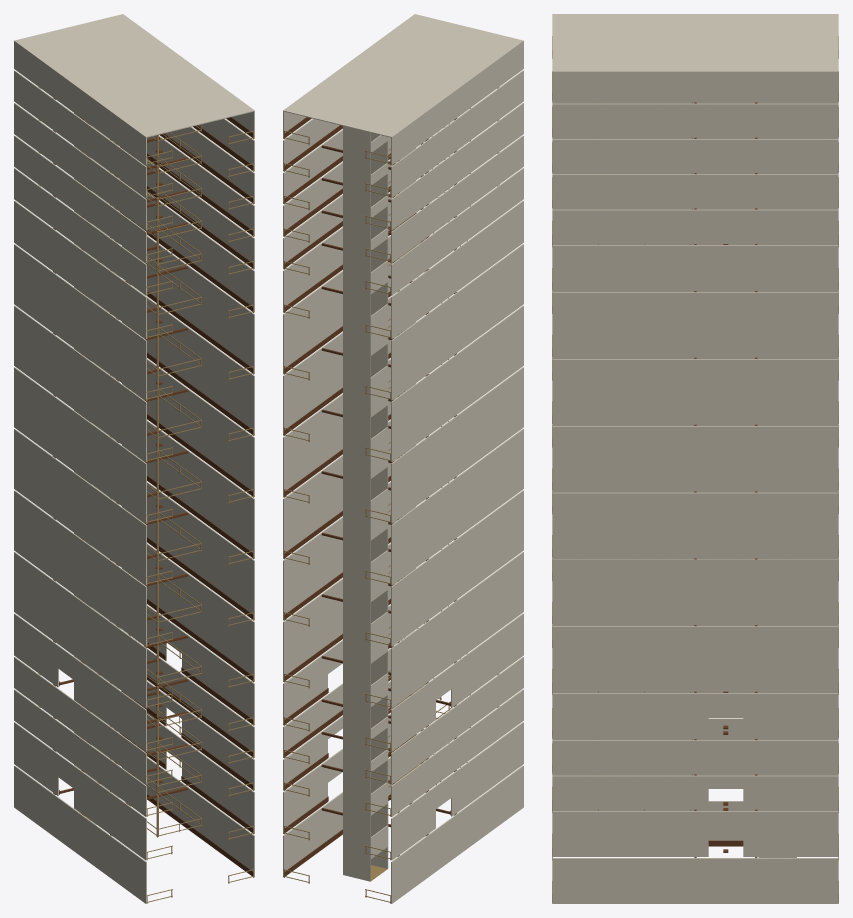
File: AST-CIR-005_aft_hydration_family_d05.glb
3 views of the same model, side by side, from view 1: azimuth 30°, elevation 25°; view 2: azimuth 150°, elevation 25°; view 3: azimuth 270°, elevation 25° (orthographic). The views are drawn at different scales.
Parts seen in each view (by area): view 1: CORE_BATCH_ivory_enamel, CORE_BATCH_champagne_metal, CORE_BATCH_warm_walnut, CORE_OuterWall_01_-1_Solar_Aft, CORE_OuterWall_04_-1_hydration_Aft, CORE_OuterWall_04_1_family_waiting_Aft, CORE_OuterWall_01_1_Inspection_Aft, CORE_OuterWall_02_1_Uniforms_Aft, CORE_OuterWall_04_-1_hydration_Fore, CORE_OuterWall_01_-1_Solar_Fore, CORE_OuterWall_04_1_family_waiting_Fore, CORE_OuterWall_01_1_Inspection_Fore; view 2: CORE_BATCH_ivory_enamel, CORE_BATCH_warm_walnut, CORE_BATCH_champagne_metal, CORE_OuterWall_04_-1_hydration_Aft, CORE_OuterWall_01_-1_Solar_Aft, CORE_OuterWall_01_-1_Solar_Fore, CORE_OuterWall_04_-1_hydration_Fore, CORE_OuterWall_04_1_family_waiting_Fore, CORE_OuterWall_01_1_Inspection_Fore, CORE_OuterWall_02_1_Uniforms_Fore; view 3: CORE_BATCH_ivory_enamel, CORE_OuterWall_01_1_Inspection_Aft, CORE_OuterWall_04_1_family_waiting_Aft, CORE_OuterWall_02_1_Uniforms_Aft, CORE_OuterWall_01_1_Inspection_Fore, CORE_OuterWall_04_1_family_waiting_Fore, CORE_OuterWall_02_1_Uniforms_Fore, CORE_BATCH_champagne_metal, CORE_OuterWall_01_1_Inspection_Header, CORE_OuterWall_04_1_family_waiting_Header.
Boxes of the visible parts, left/top/right/bottom form: CORE_BATCH_ivory_enamel: left=14, top=14, right=254, bottom=903; CORE_BATCH_champagne_metal: left=38, top=87, right=254, bottom=903; CORE_BATCH_warm_walnut: left=53, top=97, right=253, bottom=875; CORE_OuterWall_01_-1_Solar_Aft: left=74, top=766, right=146, bottom=860; CORE_OuterWall_04_-1_hydration_Aft: left=74, top=657, right=146, bottom=751; CORE_OuterWall_04_1_family_waiting_Aft: left=182, top=631, right=254, bottom=725; CORE_OuterWall_01_1_Inspection_Aft: left=182, top=739, right=254, bottom=833; CORE_OuterWall_02_1_Uniforms_Aft: left=182, top=707, right=254, bottom=790; CORE_OuterWall_04_-1_hydration_Fore: left=14, top=613, right=58, bottom=687; CORE_OuterWall_01_-1_Solar_Fore: left=14, top=722, right=58, bottom=795; CORE_OuterWall_04_1_family_waiting_Fore: left=147, top=605, right=166, bottom=660; CORE_OuterWall_01_1_Inspection_Fore: left=147, top=714, right=166, bottom=769; CORE_BATCH_ivory_enamel: left=283, top=14, right=523, bottom=903; CORE_BATCH_warm_walnut: left=284, top=117, right=456, bottom=875; CORE_BATCH_champagne_metal: left=283, top=87, right=499, bottom=903; CORE_OuterWall_04_-1_hydration_Aft: left=451, top=613, right=523, bottom=707; CORE_OuterWall_01_-1_Solar_Aft: left=451, top=722, right=523, bottom=816; CORE_OuterWall_01_-1_Solar_Fore: left=391, top=786, right=435, bottom=860; CORE_OuterWall_04_-1_hydration_Fore: left=391, top=678, right=435, bottom=751; CORE_OuterWall_04_1_family_waiting_Fore: left=283, top=651, right=327, bottom=725; CORE_OuterWall_01_1_Inspection_Fore: left=283, top=760, right=327, bottom=833; CORE_OuterWall_02_1_Uniforms_Fore: left=283, top=727, right=327, bottom=790; CORE_BATCH_ivory_enamel: left=552, top=14, right=838, bottom=903; CORE_OuterWall_01_1_Inspection_Aft: left=552, top=811, right=708, bottom=856; CORE_OuterWall_04_1_family_waiting_Aft: left=552, top=693, right=708, bottom=738; CORE_OuterWall_02_1_Uniforms_Aft: left=552, top=775, right=708, bottom=809; CORE_OuterWall_01_1_Inspection_Fore: left=743, top=811, right=838, bottom=856; CORE_OuterWall_04_1_family_waiting_Fore: left=743, top=693, right=838, bottom=738; CORE_OuterWall_02_1_Uniforms_Fore: left=743, top=775, right=838, bottom=809; CORE_BATCH_champagne_metal: left=552, top=36, right=838, bottom=902; CORE_OuterWall_01_1_Inspection_Header: left=708, top=811, right=743, bottom=835; CORE_OuterWall_04_1_family_waiting_Header: left=708, top=693, right=743, bottom=717.
Bounding box in the file's own units: 15.76 × 106 × 33.08.
Materials: 4 (3 with a texture image).
